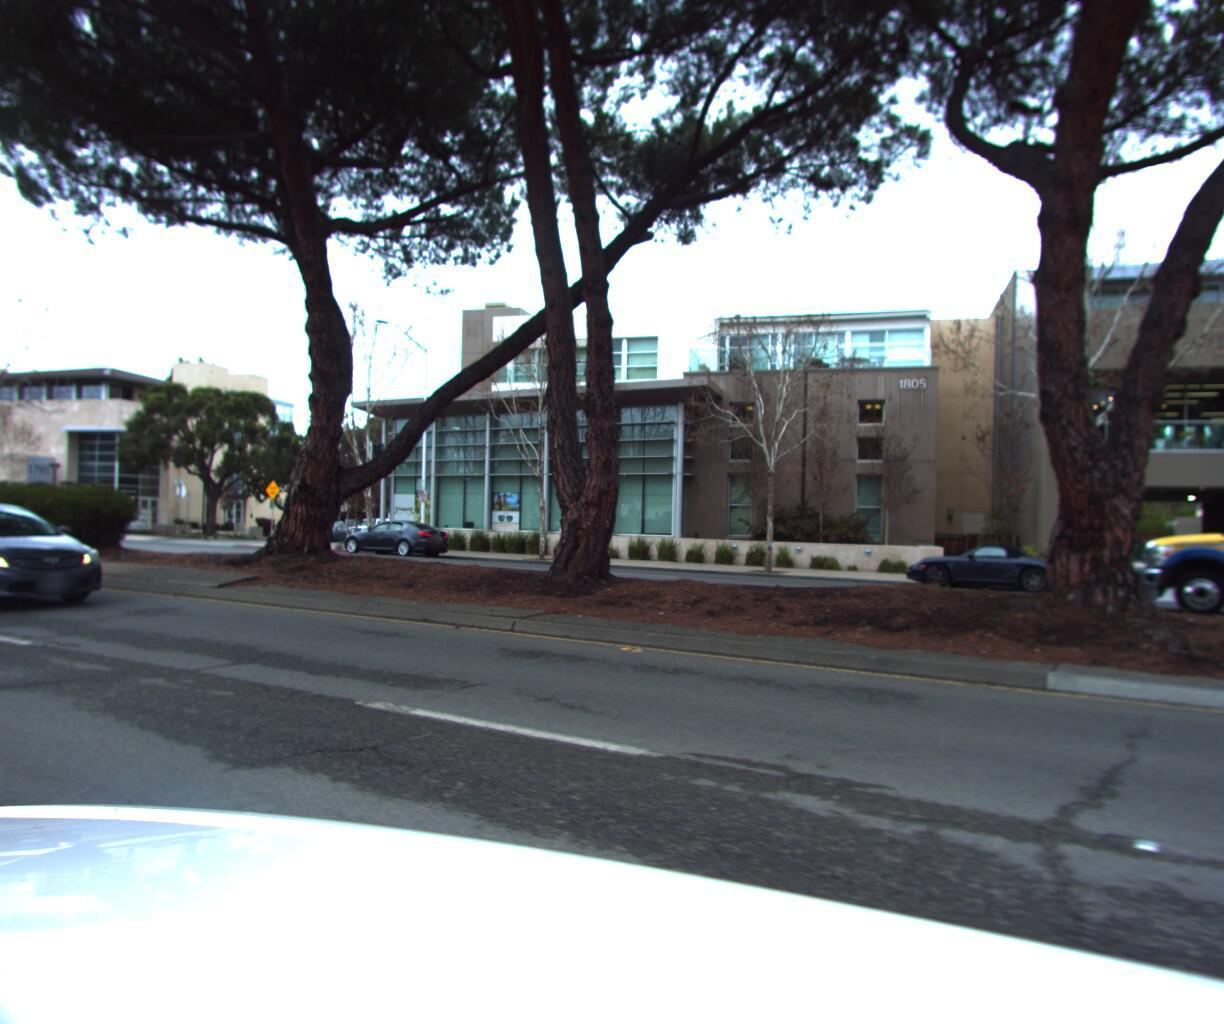car: (0, 500, 117, 618), (894, 539, 1078, 601), (335, 521, 456, 564)
truck: (1141, 489, 1224, 669)
